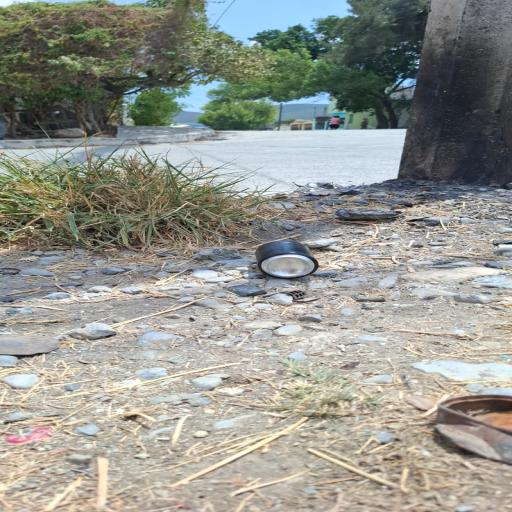LATA: (242, 238, 325, 282)
